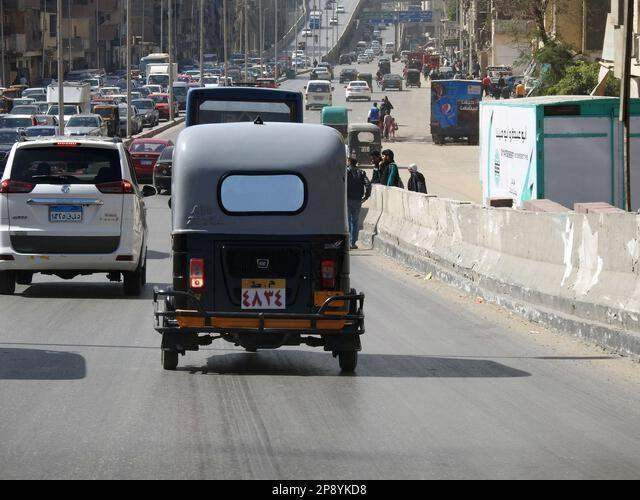keke: (166, 115, 360, 376)
